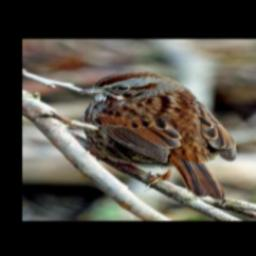Sparrow: (76, 71, 239, 199)
